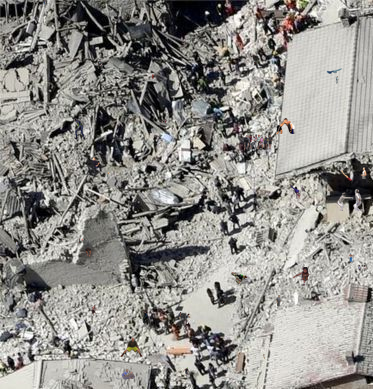Human: (337, 189, 362, 211), (302, 61, 343, 74), (242, 134, 273, 151), (341, 167, 367, 187), (120, 337, 143, 357), (290, 267, 311, 287), (276, 118, 295, 134), (74, 118, 86, 140), (289, 184, 306, 199), (208, 362, 218, 387), (178, 312, 198, 324), (195, 358, 207, 376), (229, 212, 241, 230), (116, 369, 135, 380), (231, 272, 248, 284), (228, 236, 238, 255), (235, 185, 246, 202), (220, 217, 229, 236), (232, 193, 241, 211), (92, 157, 100, 175), (0, 359, 8, 377), (215, 299, 232, 305), (142, 311, 149, 323), (91, 305, 98, 316), (97, 59, 103, 70), (39, 0, 52, 5), (358, 265, 367, 272), (183, 367, 189, 377), (348, 253, 354, 263), (85, 247, 91, 257), (276, 295, 281, 306), (16, 241, 24, 247), (76, 238, 83, 243), (159, 119, 167, 123), (336, 76, 339, 84), (31, 101, 40, 103), (177, 82, 180, 87), (107, 172, 110, 177), (305, 229, 308, 233), (263, 354, 265, 359), (152, 74, 154, 79), (254, 62, 257, 65)
